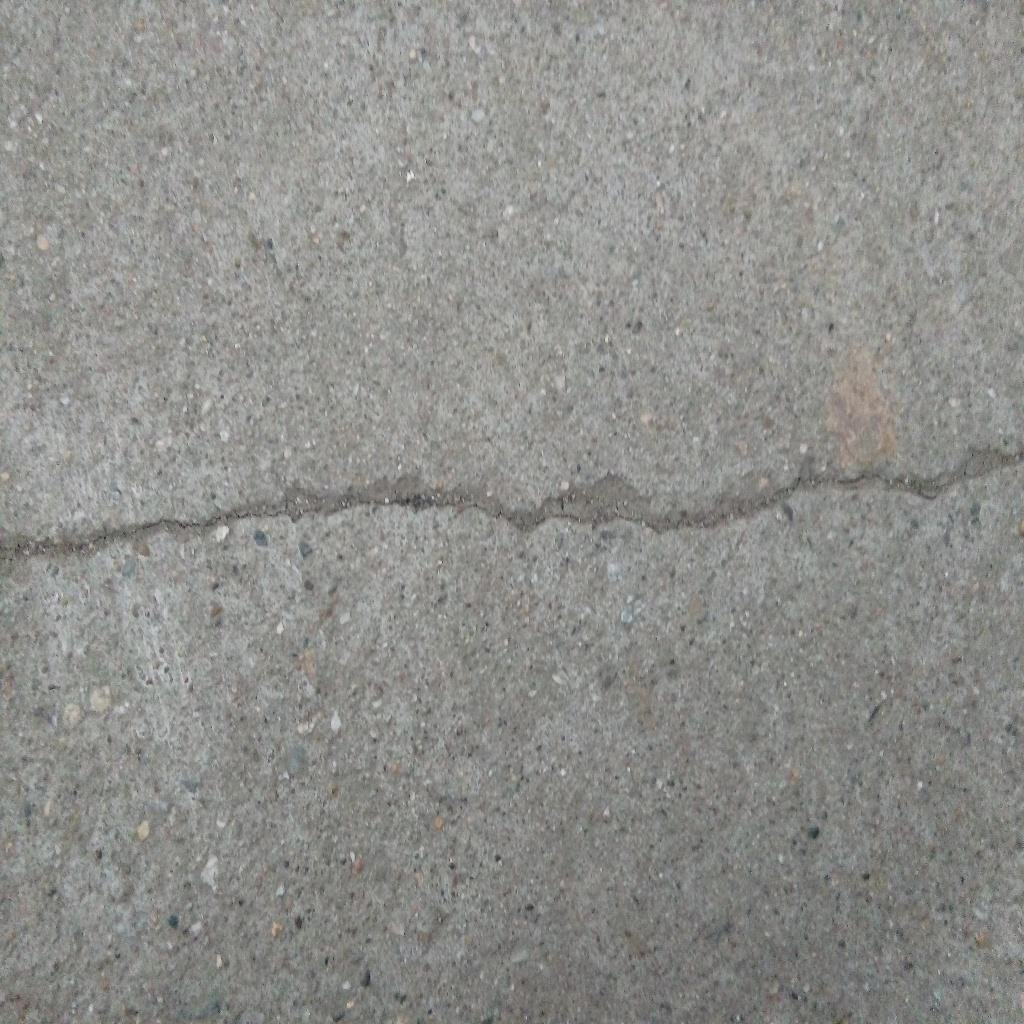Crack: (1, 449, 1024, 563)
